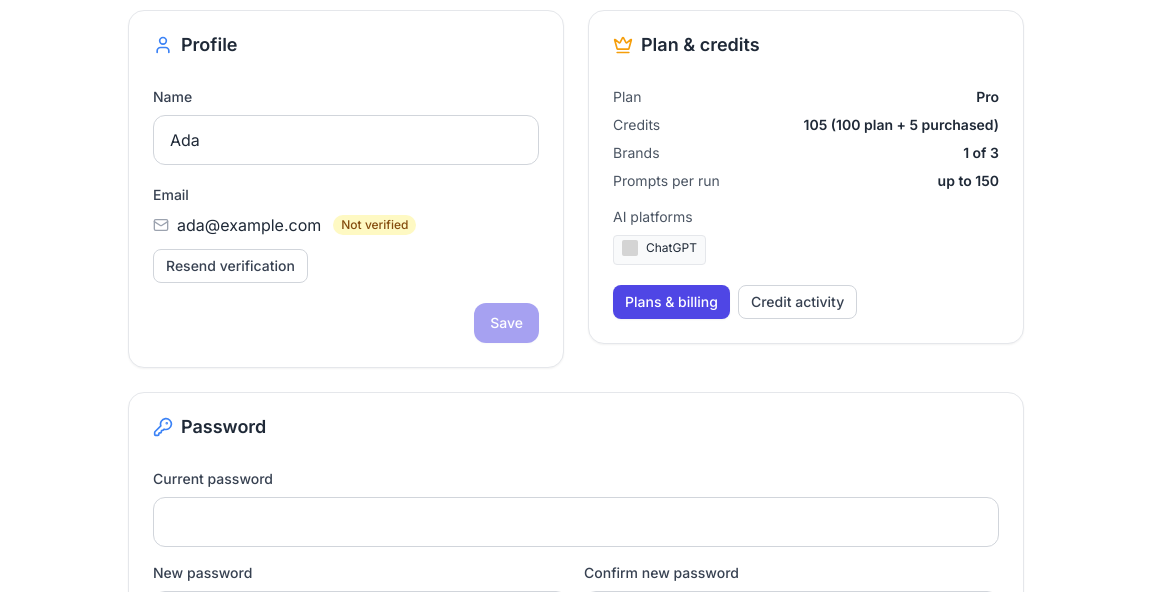
Scenario: SettingsPage › checks the confirmation and maps INVALID_CREDENTIALS to the current password
Type "old-secret" into the password field labelled "Current password" at (576, 522), box left=153, top=497, right=999, bottom=547
(page scrolled)
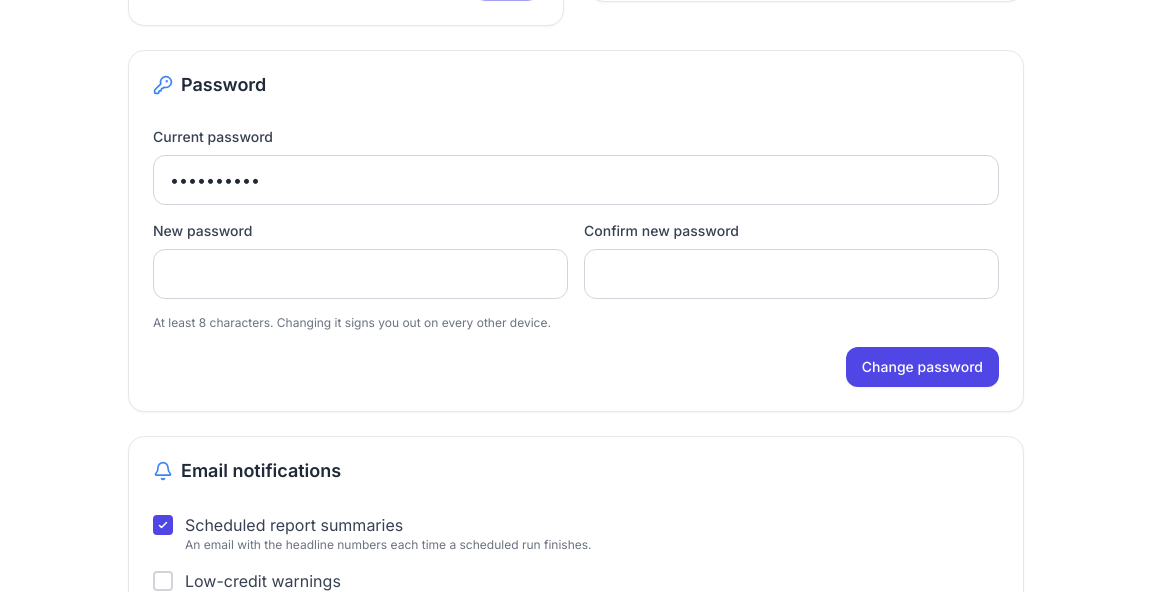
Type "a-much-better-one" into the password field labelled "New password" at (360, 274), box left=153, top=249, right=568, bottom=299
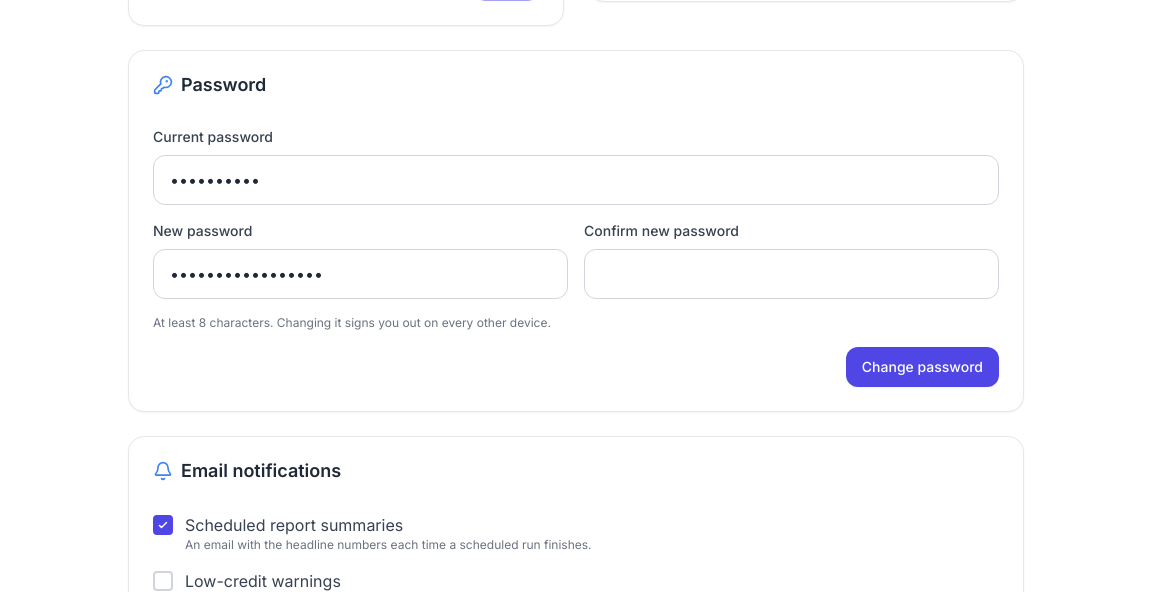
Type "different" into the password field labelled "Confirm new password" at (792, 274), box left=584, top=249, right=999, bottom=299
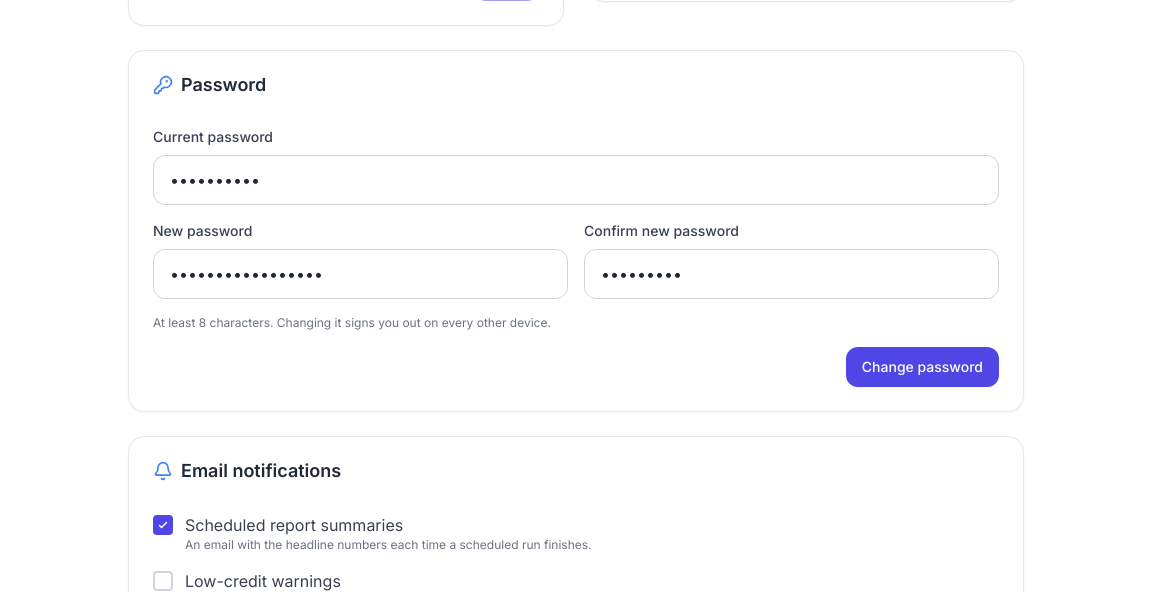
Click the button "Change password" at (922, 367), box left=846, top=347, right=999, bottom=387
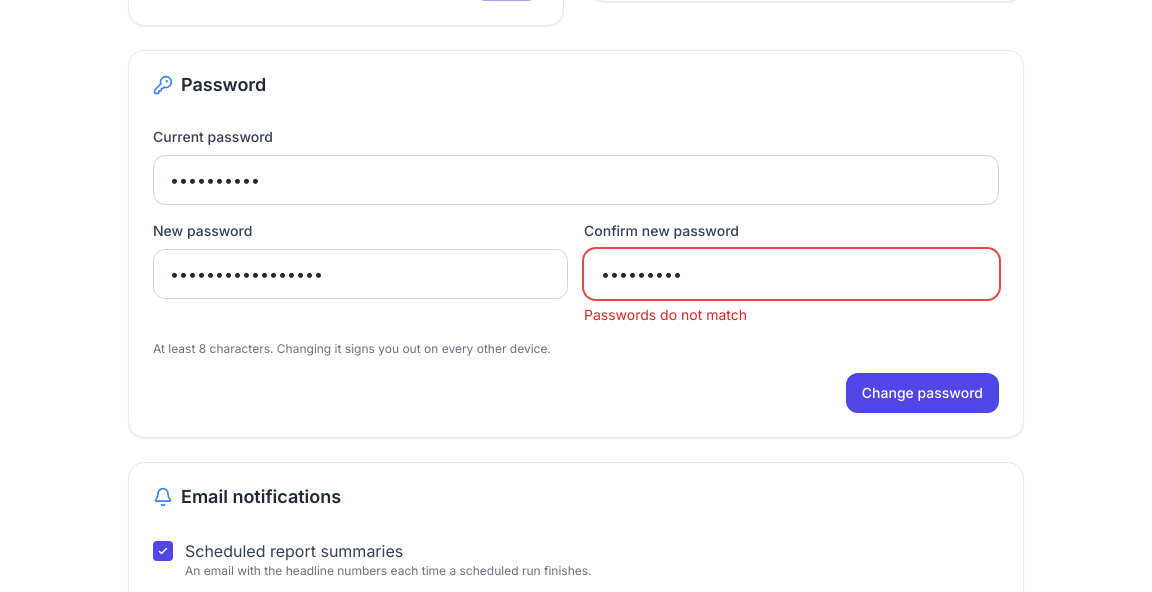
Now the text "Passwords do not match" is shown, box left=584, top=306, right=747, bottom=323
Type "a-much-better-one" into the password field labelled "Confirm new password" at (792, 274), box left=584, top=249, right=999, bottom=299
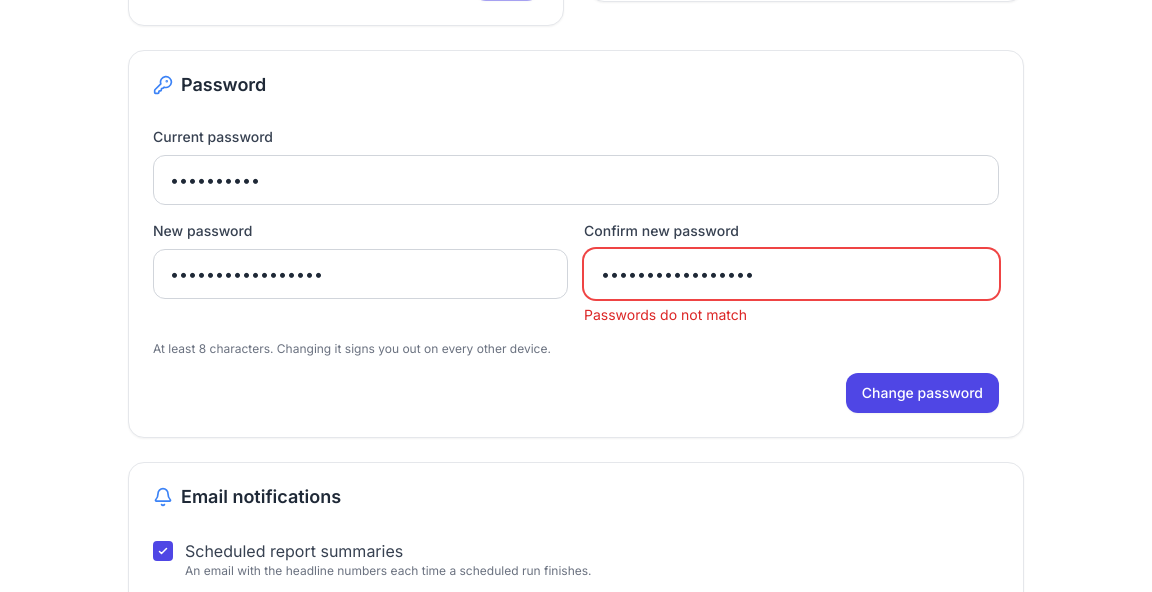
Click the button "Change password" at (922, 393), box left=846, top=373, right=999, bottom=413
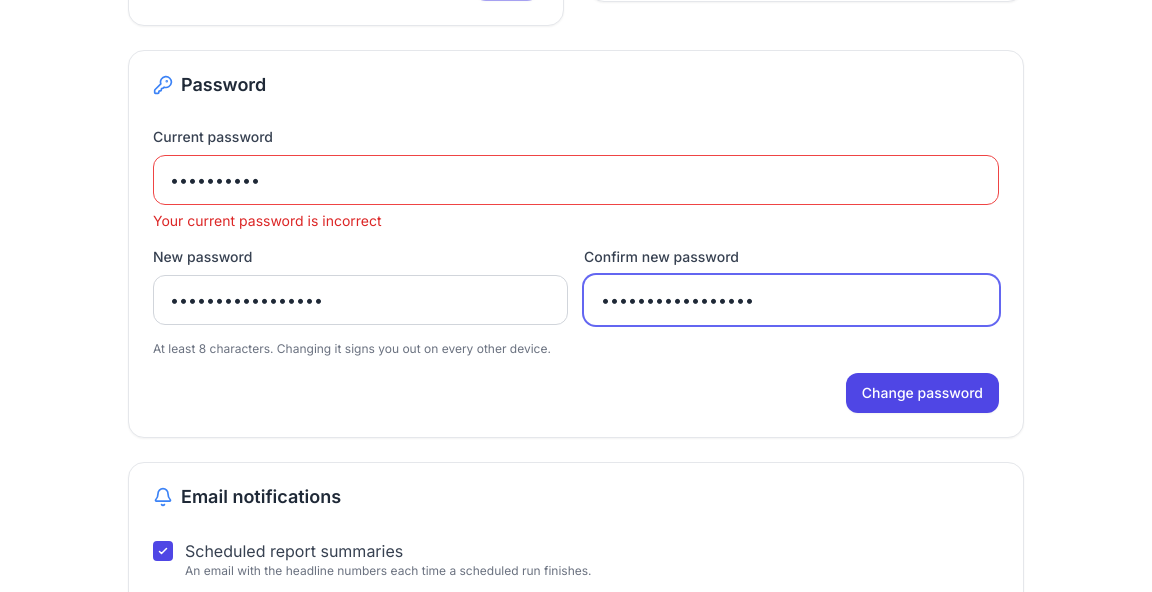
Now the text "Your current password is incorrect" is shown, box left=153, top=212, right=382, bottom=229
